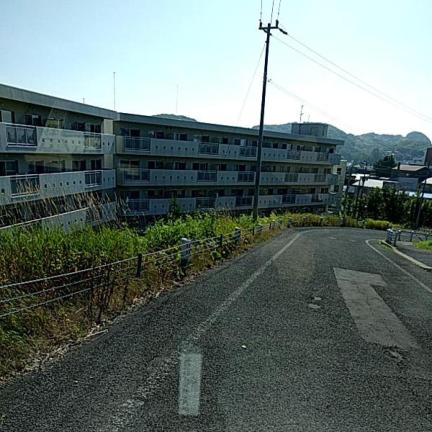Road: (0, 229, 431, 431)
